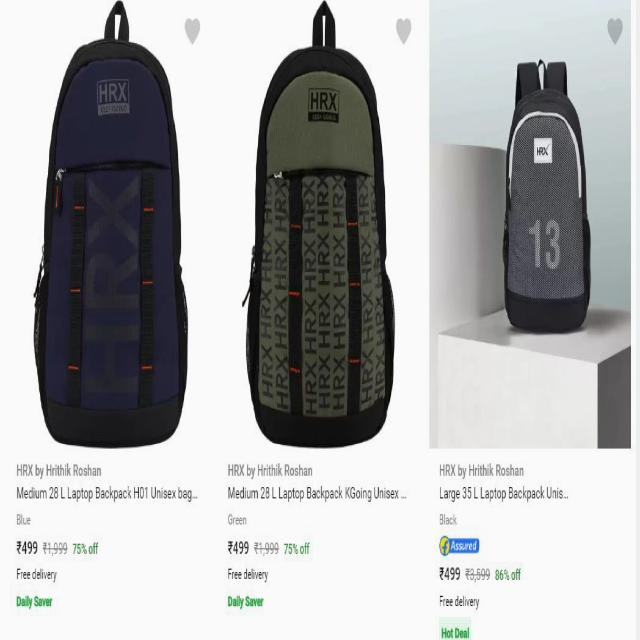backpack: (33, 1, 188, 448), (243, 1, 396, 448), (503, 59, 592, 335)
